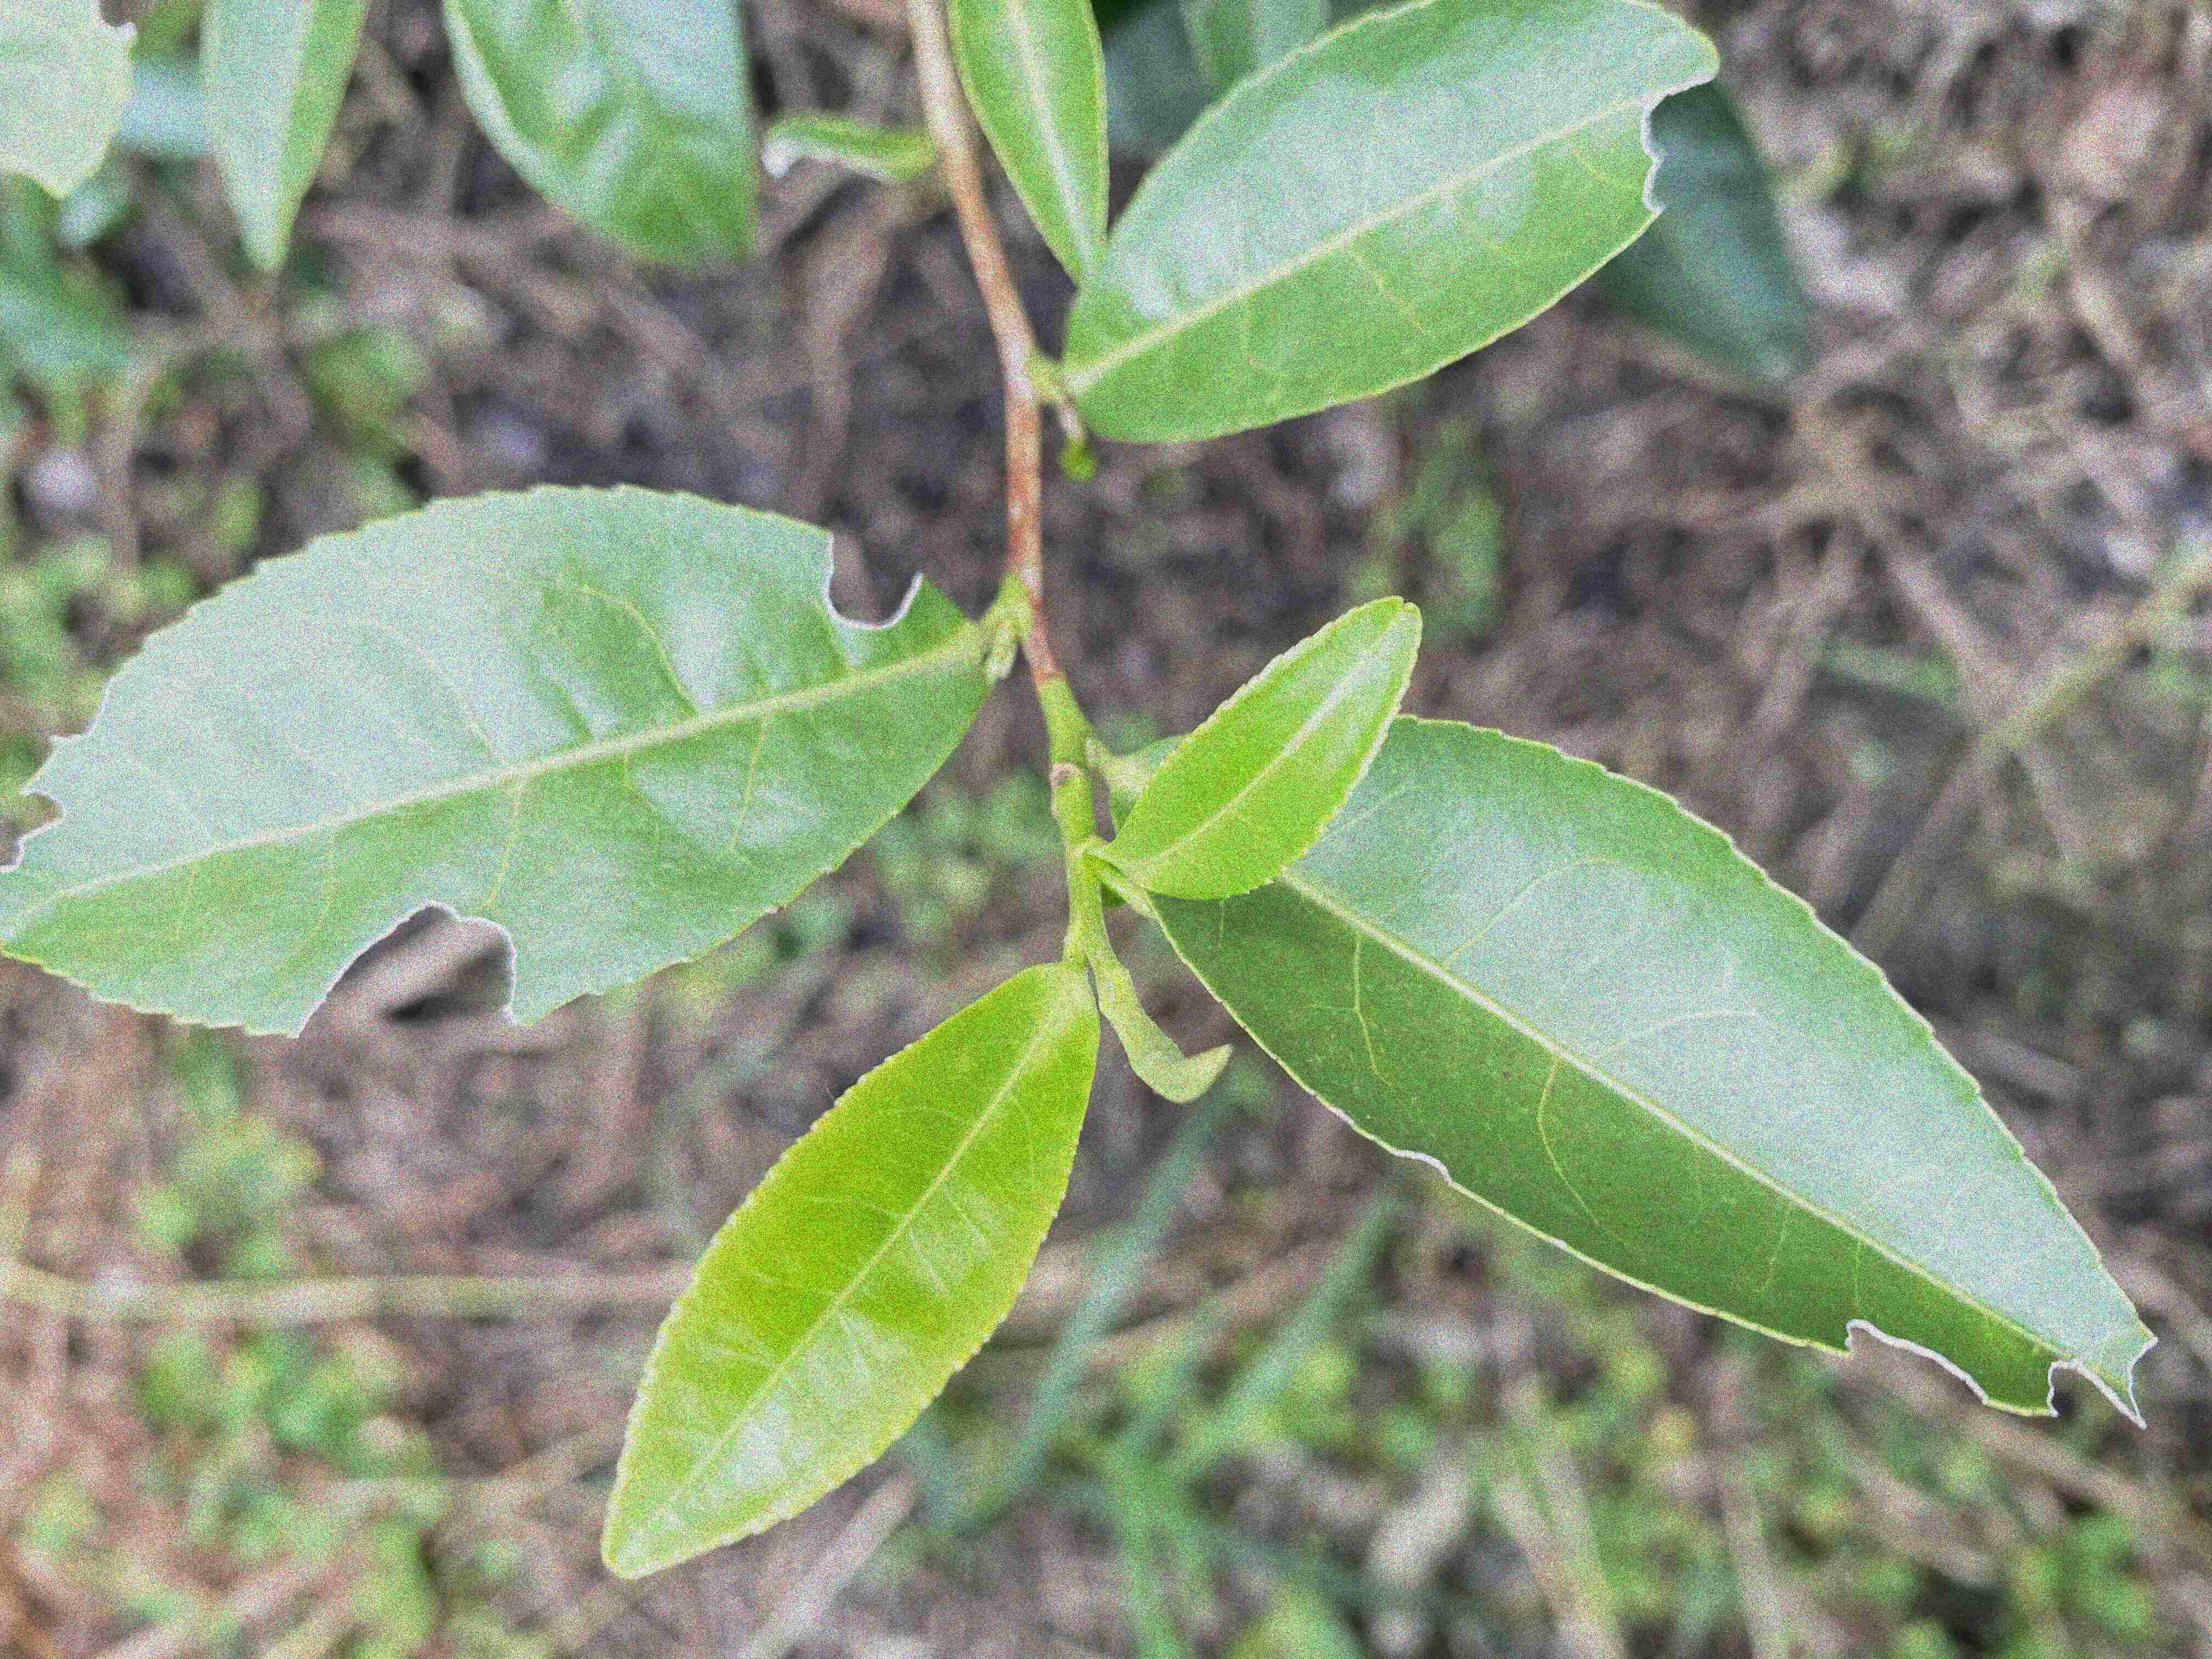chihuo_high: (1144, 709, 2161, 1429), (0, 479, 991, 1039)
chihuo_low: (1055, 2, 1717, 446)
healthy: (603, 965, 1099, 1579), (1113, 592, 1423, 903)
